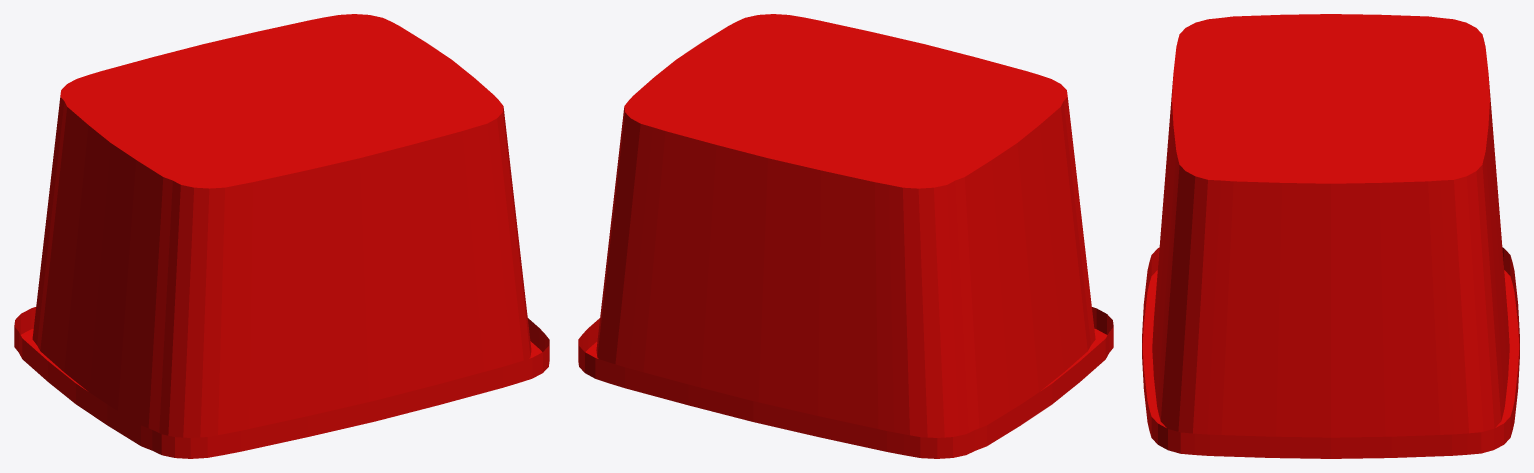
The model's file is redpepperpaste.fbx.
The picture shows the model from 3 angles, left to right: view 1: azimuth 30°, elevation 25°; view 2: azimuth 150°, elevation 25°; view 3: azimuth 270°, elevation 25°; orthographic projection.
Parts seen in each view (by area): view 1: Tub, Top; view 2: Tub, Top; view 3: Tub, Top.
Boxes of the visible parts, box(x1,y1,x2,y2) form: Tub: box(32, 14, 531, 437); Top: box(14, 307, 549, 458); Tub: box(596, 14, 1095, 437); Top: box(578, 307, 1113, 458); Tub: box(1152, 14, 1509, 437); Top: box(1142, 247, 1519, 458).
Size of the model in its own units: 263 by 155 by 206.
